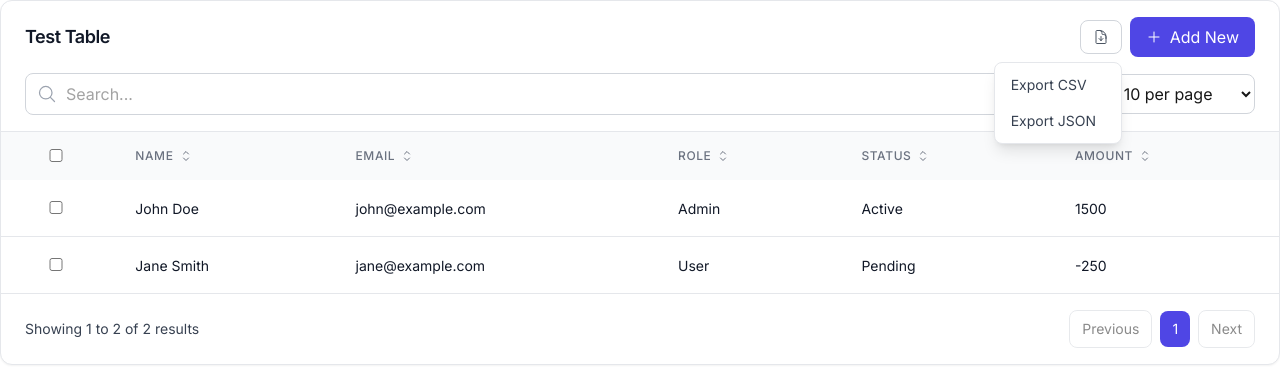
Test: AdvancedDataTable › filters data when search is performed
In the field with placeholder "Search...": (546, 94) [25, 73, 1066, 115], type "John"
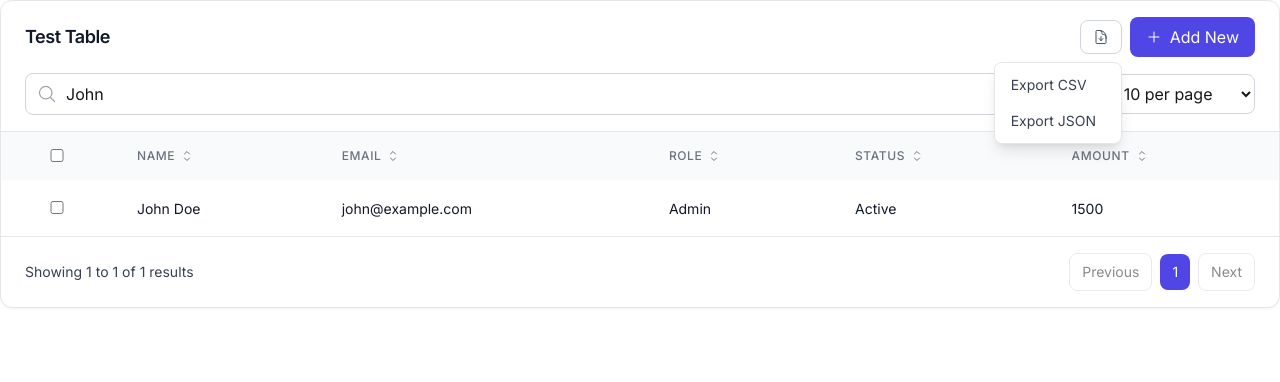
Expected: the text "John Doe" is shown, [137, 200, 200, 217]
Now the text "Jane Smith" is gone
